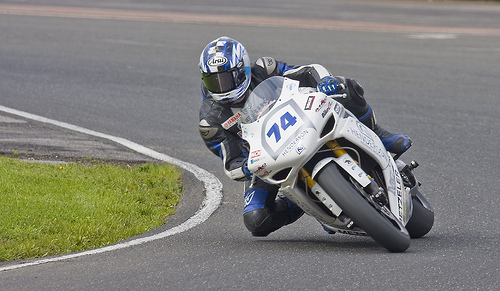helmet: (194, 39, 255, 111)
